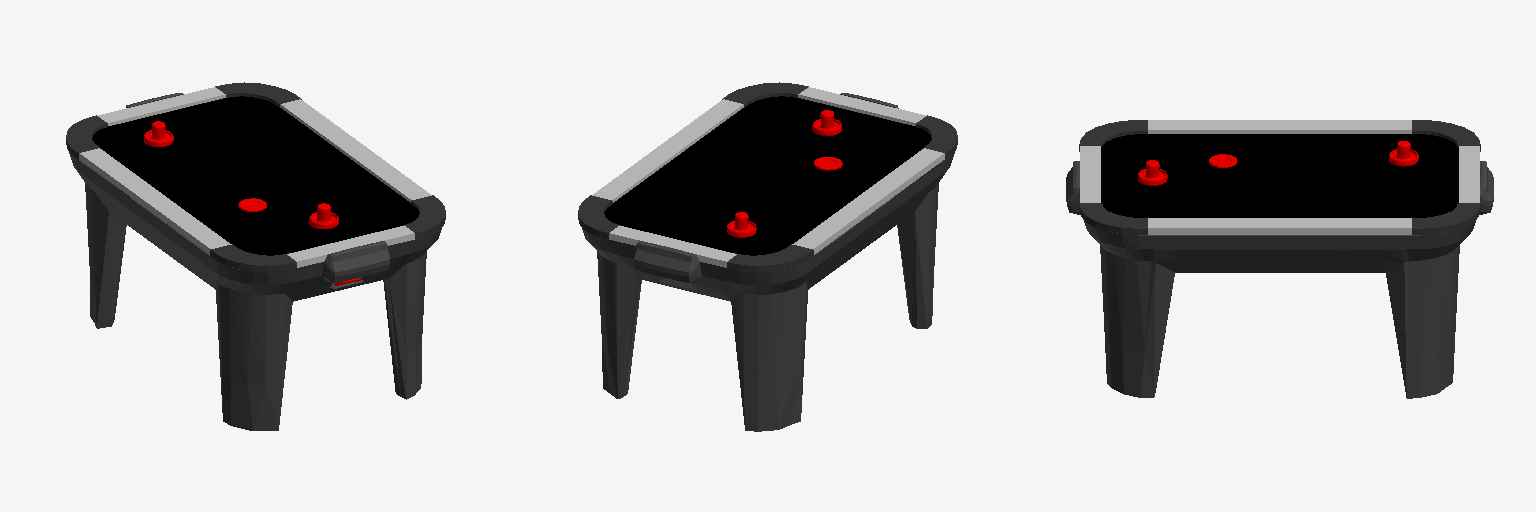
3 views of the same model, side by side, from view 1: azimuth 30°, elevation 25°; view 2: azimuth 150°, elevation 25°; view 3: azimuth 270°, elevation 25° (orthographic).
Visible parts, largest first — view 1: objpPlane1, objpolySu1, objpCube1, objpCube4, objpCube10, objpolySur, objpolySu0, objnurbsT1, objnurbsT2, objnurbsTo, objnurbsT0, objrevolv1 (+1 smaller); view 2: objpPlane1, objpolySu1, objpCube1, objpCube4, objpCube17, objpolySu0, objpolySur, objnurbsT0, objnurbsTo, objnurbsT2, objnurbsT1, objrevolv1 (+1 smaller); view 3: objpolySu1, objpPlane1, objpCube4, objpCube1, objnurbsTo, objnurbsT2, objpolySur, objpolySu0, objnurbsT0, objnurbsT1, objpCube10, objpCube17 (+2 smaller).
Boxes of the visible parts, <box> form: objpPlane1: <box>92,96,419,255</box>; objpolySu1: <box>69,152,441,430</box>; objpCube1: <box>79,148,231,254</box>; objpCube4: <box>280,99,431,202</box>; objpCube10: <box>322,241,389,282</box>; objpolySur: <box>98,87,225,125</box>; objpolySu0: <box>287,225,414,267</box>; objnurbsT1: <box>210,244,296,272</box>; objnurbsT2: <box>405,195,445,239</box>; objnurbsTo: <box>215,82,301,107</box>; objnurbsT0: <box>66,115,107,159</box>; objrevolv1: <box>309,203,338,228</box>; objpPlane1: <box>604,96,931,255</box>; objpolySu1: <box>582,152,954,431</box>; objpCube1: <box>792,148,944,254</box>; objpCube4: <box>592,99,743,202</box>; objpCube17: <box>634,241,701,282</box>; objpolySu0: <box>798,87,925,125</box>; objpolySur: <box>609,225,736,267</box>; objnurbsT0: <box>727,244,813,272</box>; objnurbsTo: <box>578,195,618,239</box>; objnurbsT2: <box>722,82,808,107</box>; objnurbsT1: <box>916,115,957,159</box>; objrevolv1: <box>812,110,841,135</box>; objpolySu1: <box>1083,219,1476,398</box>; objpPlane1: <box>1101,134,1458,217</box>; objpCube4: <box>1148,218,1411,234</box>; objpCube1: <box>1148,120,1411,133</box>; objnurbsTo: <box>1412,203,1480,234</box>; objnurbsT2: <box>1079,203,1147,234</box>; objpolySur: <box>1459,146,1479,202</box>; objpolySu0: <box>1080,146,1100,202</box>; objnurbsT0: <box>1412,120,1480,151</box>; objnurbsT1: <box>1079,120,1147,151</box>; objpCube10: <box>1066,161,1079,214</box>; objpCube17: <box>1480,161,1493,214</box>.
Bounding box in the file's own units: 5.93 × 4.87 × 9.86.